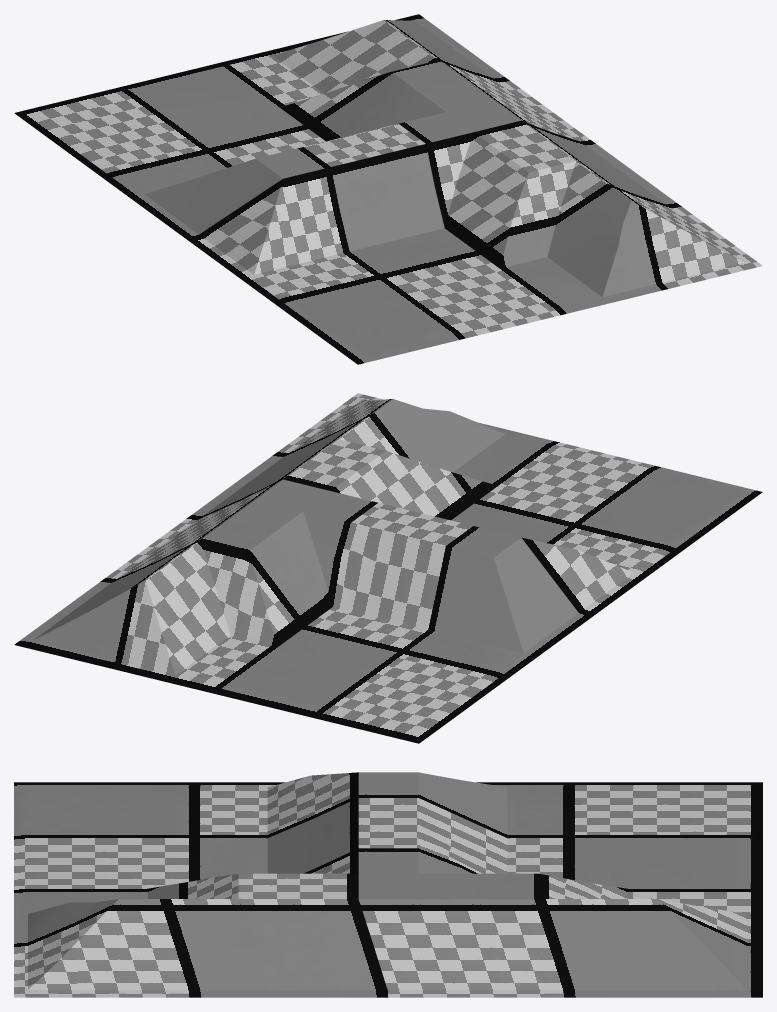
The model's file is roof_6744071.glb.
The picture shows the model from 3 angles, top to bottom: view 1: azimuth 30°, elevation 25°; view 2: azimuth 150°, elevation 25°; view 3: azimuth 270°, elevation 25°; orthographic projection. The views are drawn at different scales.
Parts seen in each view (by area): view 1: mesh; view 2: mesh; view 3: mesh.
Boxes of the visible parts, x1,y1,x2,y2 form: mesh: [14, 14, 762, 364]; mesh: [14, 393, 762, 743]; mesh: [14, 772, 762, 997].
Size of the model in its own units: 34 by 4 by 50.
Materials: 1 (1 with a texture image).
